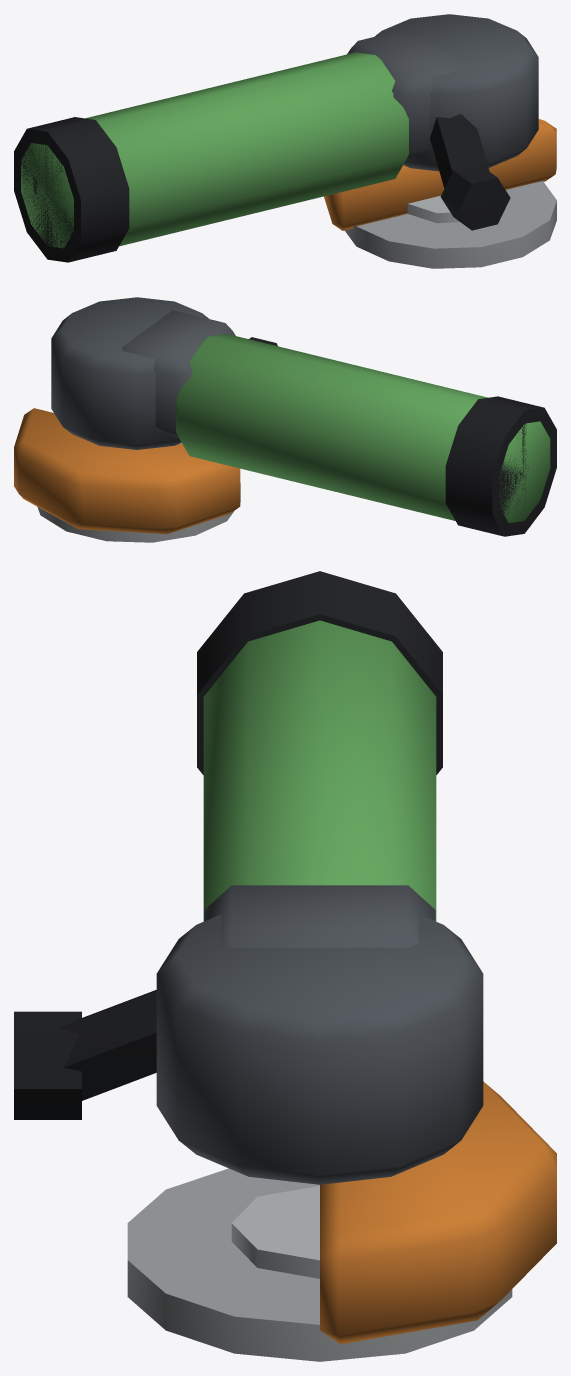
File: SM_AngleGrinder_01.glb
The picture shows the model from 3 angles, top to bottom: view 1: azimuth 30°, elevation 25°; view 2: azimuth 150°, elevation 25°; view 3: azimuth 270°, elevation 25°; orthographic projection. The views are drawn at different scales.
Visible parts, largest first — view 1: SM_AngleGrinder_01; view 2: SM_AngleGrinder_01; view 3: SM_AngleGrinder_01.
Part boxes in pixels (box(x1,y1,x2,y2)): SM_AngleGrinder_01: box(14, 14, 556, 268); SM_AngleGrinder_01: box(14, 297, 556, 542); SM_AngleGrinder_01: box(14, 571, 556, 1361).
Bounding box in the file's own units: 0.3197 × 0.113 × 0.1597.
Materials: 1 (1 with a texture image).
